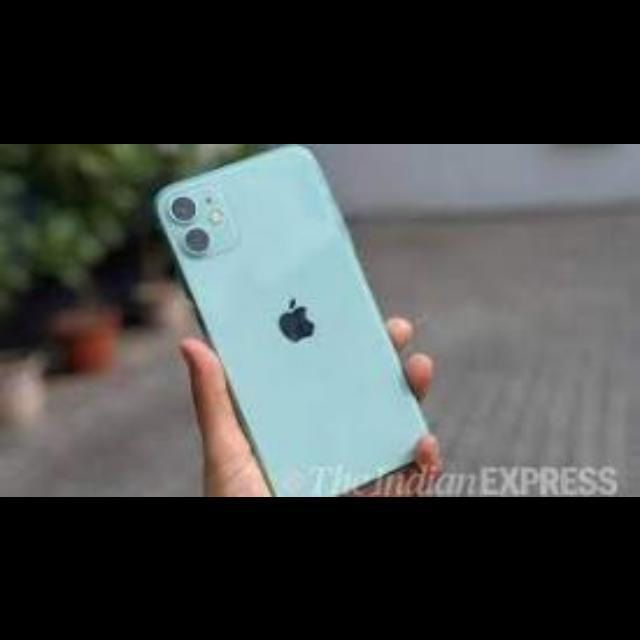phone: (122, 151, 450, 503)
